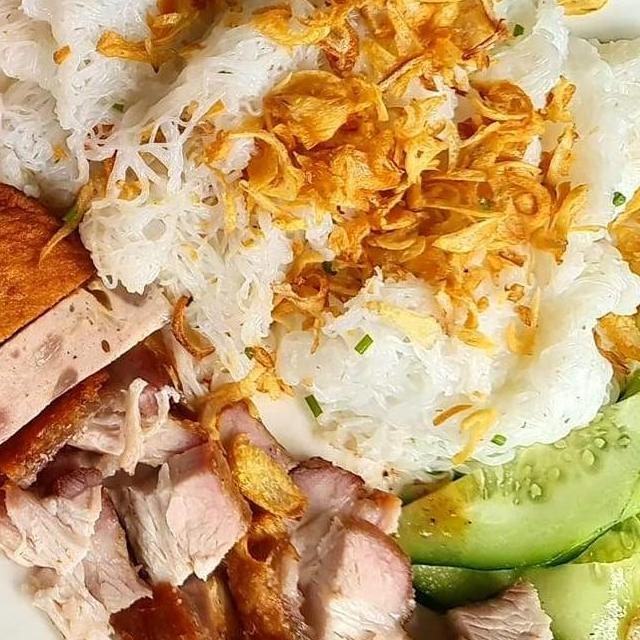banh hoi: (258, 26, 640, 428), (71, 0, 492, 361), (298, 228, 640, 488), (0, 0, 235, 143), (137, 0, 549, 66)
banh hoi heo quay: (0, 0, 640, 640)
thit heo quay: (0, 432, 258, 640), (215, 444, 418, 640), (289, 502, 430, 640), (101, 553, 277, 640), (442, 568, 636, 640)
